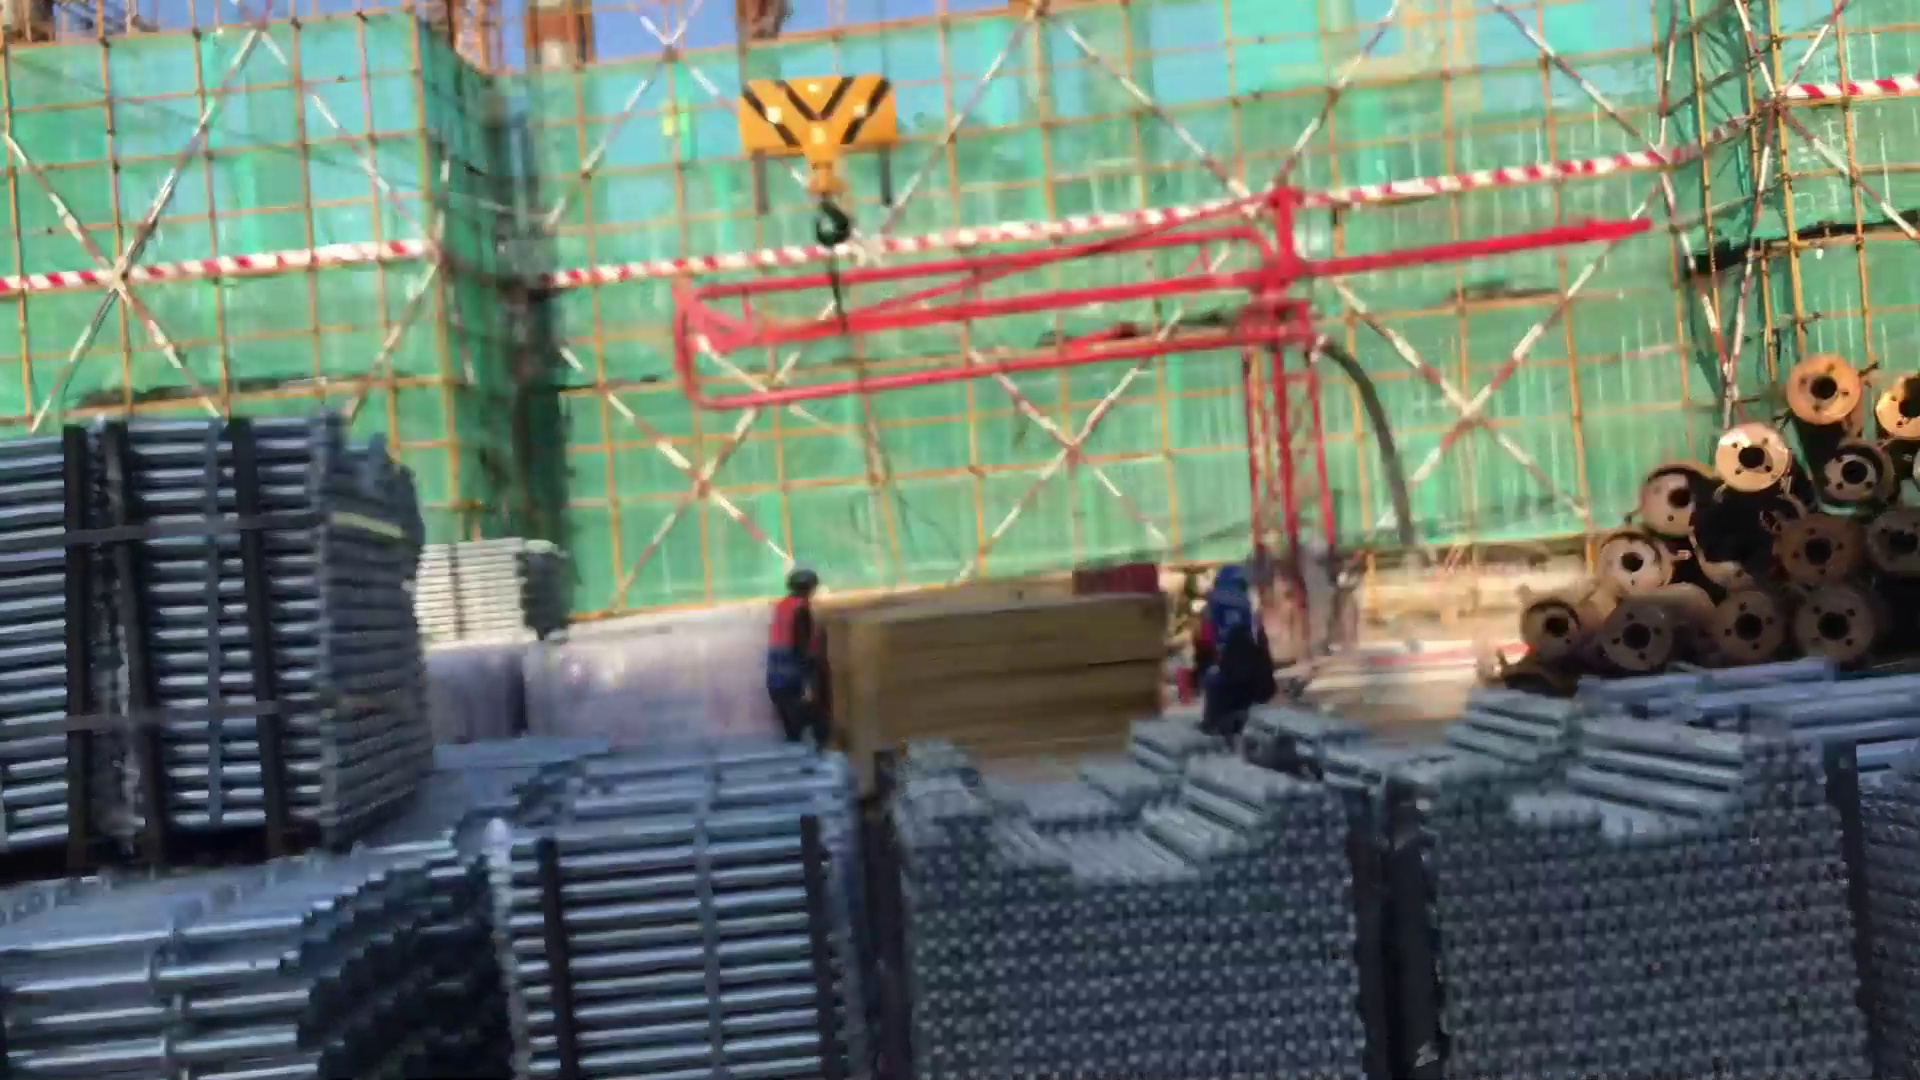board: (827, 602, 1165, 758)
helmet: (1204, 562, 1254, 609)
hook: (710, 45, 943, 341)
person: (1181, 558, 1273, 754), (758, 556, 830, 769)
scaffold: (1286, 670, 1879, 1080), (1, 392, 459, 863), (879, 753, 1393, 1080), (436, 730, 890, 1080), (1612, 653, 1920, 1073), (1, 817, 429, 1074), (401, 517, 590, 655)
vest: (1201, 603, 1261, 717), (767, 598, 813, 714)
